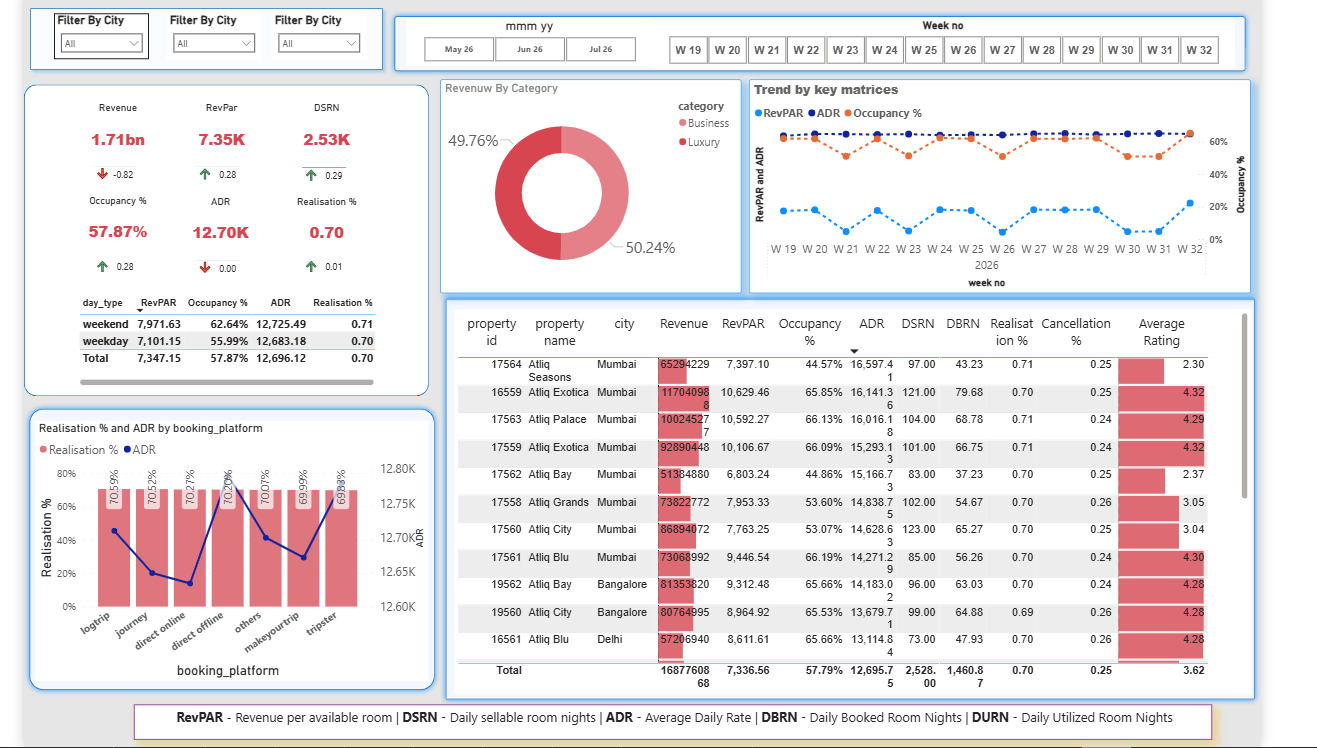

This screenshot's page, from the dashboard's own definition file:
{"tool":"powerbi","page":{"name":"Home","canvas":[1800,1100],"ordinal":0},"visuals":[{"type":"shape","box":[531.5,26.5,1255,96],"z":0},{"type":"shape","box":[606,438.7,1193.7,599.3],"z":1000},{"type":"shape","box":[0,599.3,606,425.5],"z":2000},{"type":"shape","box":[0,14.9,531.5,107.6],"z":3000},{"type":"shape","box":[0,134.1,589.4,453.6],"z":4000},{"type":"tableEx","fields":{"Values":["dim_hotels.property_id","dim_hotels.property_name","dim_hotels.city","key_measures_table.Revenue","key_measures_table.RevPAR","key_measures_table.OccupancyPercentage","key_measures_table.ADR","key_measures_table.DSRN","key_measures_table.DBRN","key_measures_table.Realisation %","key_measures_table.Cancellation percentage","key_measures_table.Average Rating"]},"box":[625.8,461.9,1160.6,559.6],"z":5000},{"type":"slicer","title":"Filter By City","fields":{"Values":["dim_hotels.city"]},"box":[43,30.2,139.1,67.9],"z":6000},{"type":"slicer","title":"Filter By City","fields":{"Values":["dim_rooms.room_class"]},"box":[207,30.2,139.1,67.9],"z":7000},{"type":"slicer","title":"mmm yy","fields":{"Values":["dim_datas.mmm yy"]},"box":[556.3,38.1,357.6,69.5],"z":8000},{"type":"slicer","title":"Week no","fields":{"Values":["dim_datas.week no"]},"box":[913.9,39.7,849.3,71.2],"z":9000},{"type":"donutChart","title":"Revenuw By Category","fields":{"Category":["dim_hotels.category"],"Y":["key_measures_table.OccupancyPercentage"]},"box":[606,127.5,438.7,311.3],"z":10000},{"type":"tableEx","fields":{"Values":["key_measures_table.Revenue WoW change %"]},"box":[94.1,225.5,84.4,56.3],"z":11000},{"type":"tableEx","fields":{"Values":["key_measures_table.ADR WoW change %"]},"box":[244.4,362.3,84.4,56.3],"z":12000},{"type":"tableEx","fields":{"Values":["key_measures_table.DSRN WoW change %"]},"box":[397.7,226.8,84.4,56.3],"z":13000},{"type":"lineChart","title":"Trend by key matrices","fields":{"Y":["key_measures_table.RevPAR","key_measures_table.ADR"],"Y2":["key_measures_table.OccupancyPercentage"],"Category":["dim_datas.mmm yy.Variation.Date Hierarchy.Year","dim_datas.week no"]},"box":[1056.3,127.5,730.1,311.3],"z":14000},{"type":"lineStackedColumnComboChart","fields":{"Category":["fact_bookings.booking_platform"],"Y":["key_measures_table.Realisation %"],"Y2":["key_measures_table.ADR"]},"box":[16.6,624.2,572.9,379.1],"z":15000},{"type":"tableEx","fields":{"Values":["dim_datas.day_type","key_measures_table.RevPAR","key_measures_table.OccupancyPercentage","key_measures_table.ADR","key_measures_table.Realisation %"]},"box":[74.5,438.7,442.1,139.1],"z":16000},{"type":"tableEx","fields":{"Values":["key_measures_table.Revpar WoW change %"]},"box":[243.7,225.2,84.4,56.3],"z":17000},{"type":"tableEx","fields":{"Values":["key_measures_table.Occupancy WoW change %"]},"box":[94.1,361.2,84.4,56.3],"z":18000},{"type":"tableEx","fields":{"Values":["key_measures_table.Realisation WoW change %"]},"box":[397.7,360.9,84.4,56.3],"z":19000},{"type":"slicer","title":"Filter By City","fields":{"Values":["dim_hotels.city"]},"box":[360.9,30.2,139.1,67.9],"z":20000},{"type":"textbox","box":[160.6,1038.1,1569.6,51.3],"z":21000},{"type":"card","title":"Revenue","fields":{"Values":["key_measures_table.Revenue"]},"box":[67.7,159.7,139.1,94.4],"z":22000},{"type":"card","title":"RevPar","fields":{"Values":["key_measures_table.RevPAR"]},"box":[218.9,160.6,139.1,94.4],"z":23000},{"type":"card","title":"DSRN","fields":{"Values":["key_measures_table.DSRN"]},"box":[371.2,160.6,139.1,94.4],"z":24000},{"type":"card","title":"Occupancy %","fields":{"Values":["key_measures_table.OccupancyPercentage"]},"box":[67.7,295.5,139.1,94.4],"z":25000},{"type":"card","title":"ADR","fields":{"Values":["key_measures_table.ADR"]},"box":[216.2,296,139.1,94.4],"z":26000},{"type":"card","title":"Realisation %","fields":{"Values":["key_measures_table.Realisation %"]},"box":[371.2,296.4,139.1,94.4],"z":27000}]}

Visuals, with their boxes on the page's 1800x1100 design canvas (x1, y1, x2, y2). These are canvas units, not pixel positions in the 1317x748 screenshot, which may show the page scaled, cropped or inside an application window:
shape: 532, 26, 1786, 122
shape: 606, 439, 1800, 1038
shape: 0, 599, 606, 1025
shape: 0, 15, 532, 122
shape: 0, 134, 589, 588
tableEx - dim_hotels.property_id x dim_hotels.property_name: 626, 462, 1786, 1022
"Filter By City" slicer: 43, 30, 182, 98
"Filter By City" slicer: 207, 30, 346, 98
"mmm yy" slicer: 556, 38, 914, 108
"Week no" slicer: 914, 40, 1763, 111
"Revenuw By Category" donutChart: 606, 128, 1045, 439
tableEx - key_measures_table.Revenue WoW change %: 94, 226, 178, 282
tableEx - key_measures_table.ADR WoW change %: 244, 362, 329, 419
tableEx - key_measures_table.DSRN WoW change %: 398, 227, 482, 283
"Trend by key matrices" lineChart: 1056, 128, 1786, 439
lineStackedColumnComboChart - fact_bookings.booking_platform x key_measures_table.Realisation %: 17, 624, 590, 1003
tableEx - dim_datas.day_type x key_measures_table.RevPAR: 74, 439, 517, 578
tableEx - key_measures_table.Revpar WoW change %: 244, 225, 328, 282
tableEx - key_measures_table.Occupancy WoW change %: 94, 361, 178, 418
tableEx - key_measures_table.Realisation WoW change %: 398, 361, 482, 417
"Filter By City" slicer: 361, 30, 500, 98
textbox: 161, 1038, 1730, 1089
"Revenue" card: 68, 160, 207, 254
"RevPar" card: 219, 161, 358, 255
"DSRN" card: 371, 161, 510, 255
"Occupancy %" card: 68, 296, 207, 390
"ADR" card: 216, 296, 355, 390
"Realisation %" card: 371, 296, 510, 391
